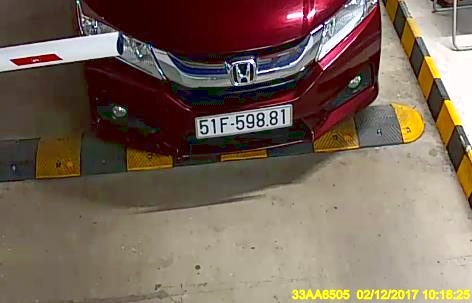plate: (193, 104, 294, 137)
